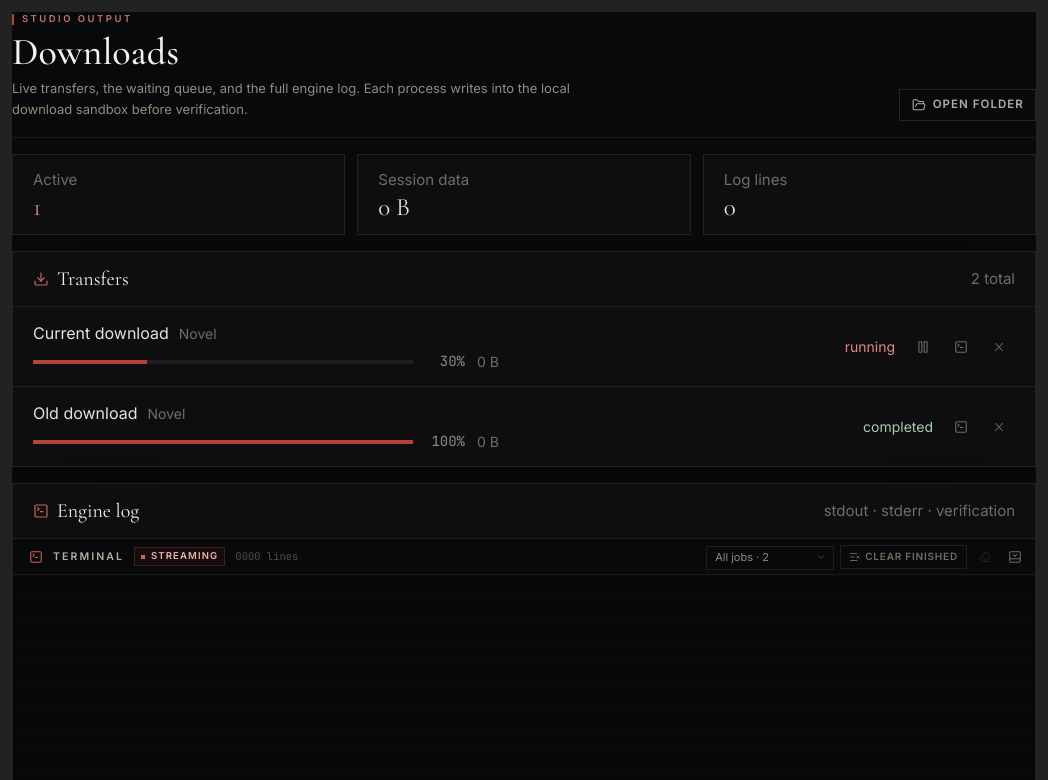
Test case: download task hydration after an app restart › clears finished jobs while keeping the active row
What coordinates should you click on to do the following:
click the button with aria-label "Clear finished terminals"
I would click on:
 (904, 557)
Its box is [840,545,967,569].
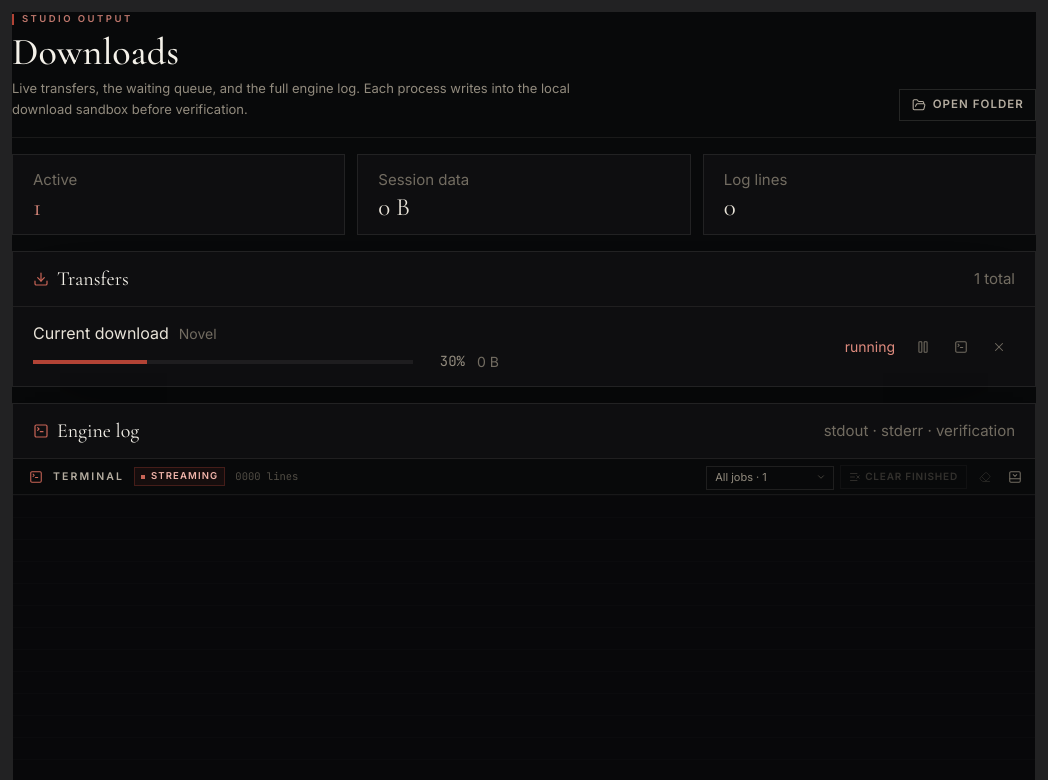
expect the text "Current download" is shown: met, box [33,321,169,345]
expect the text "Old download" is gone: met
